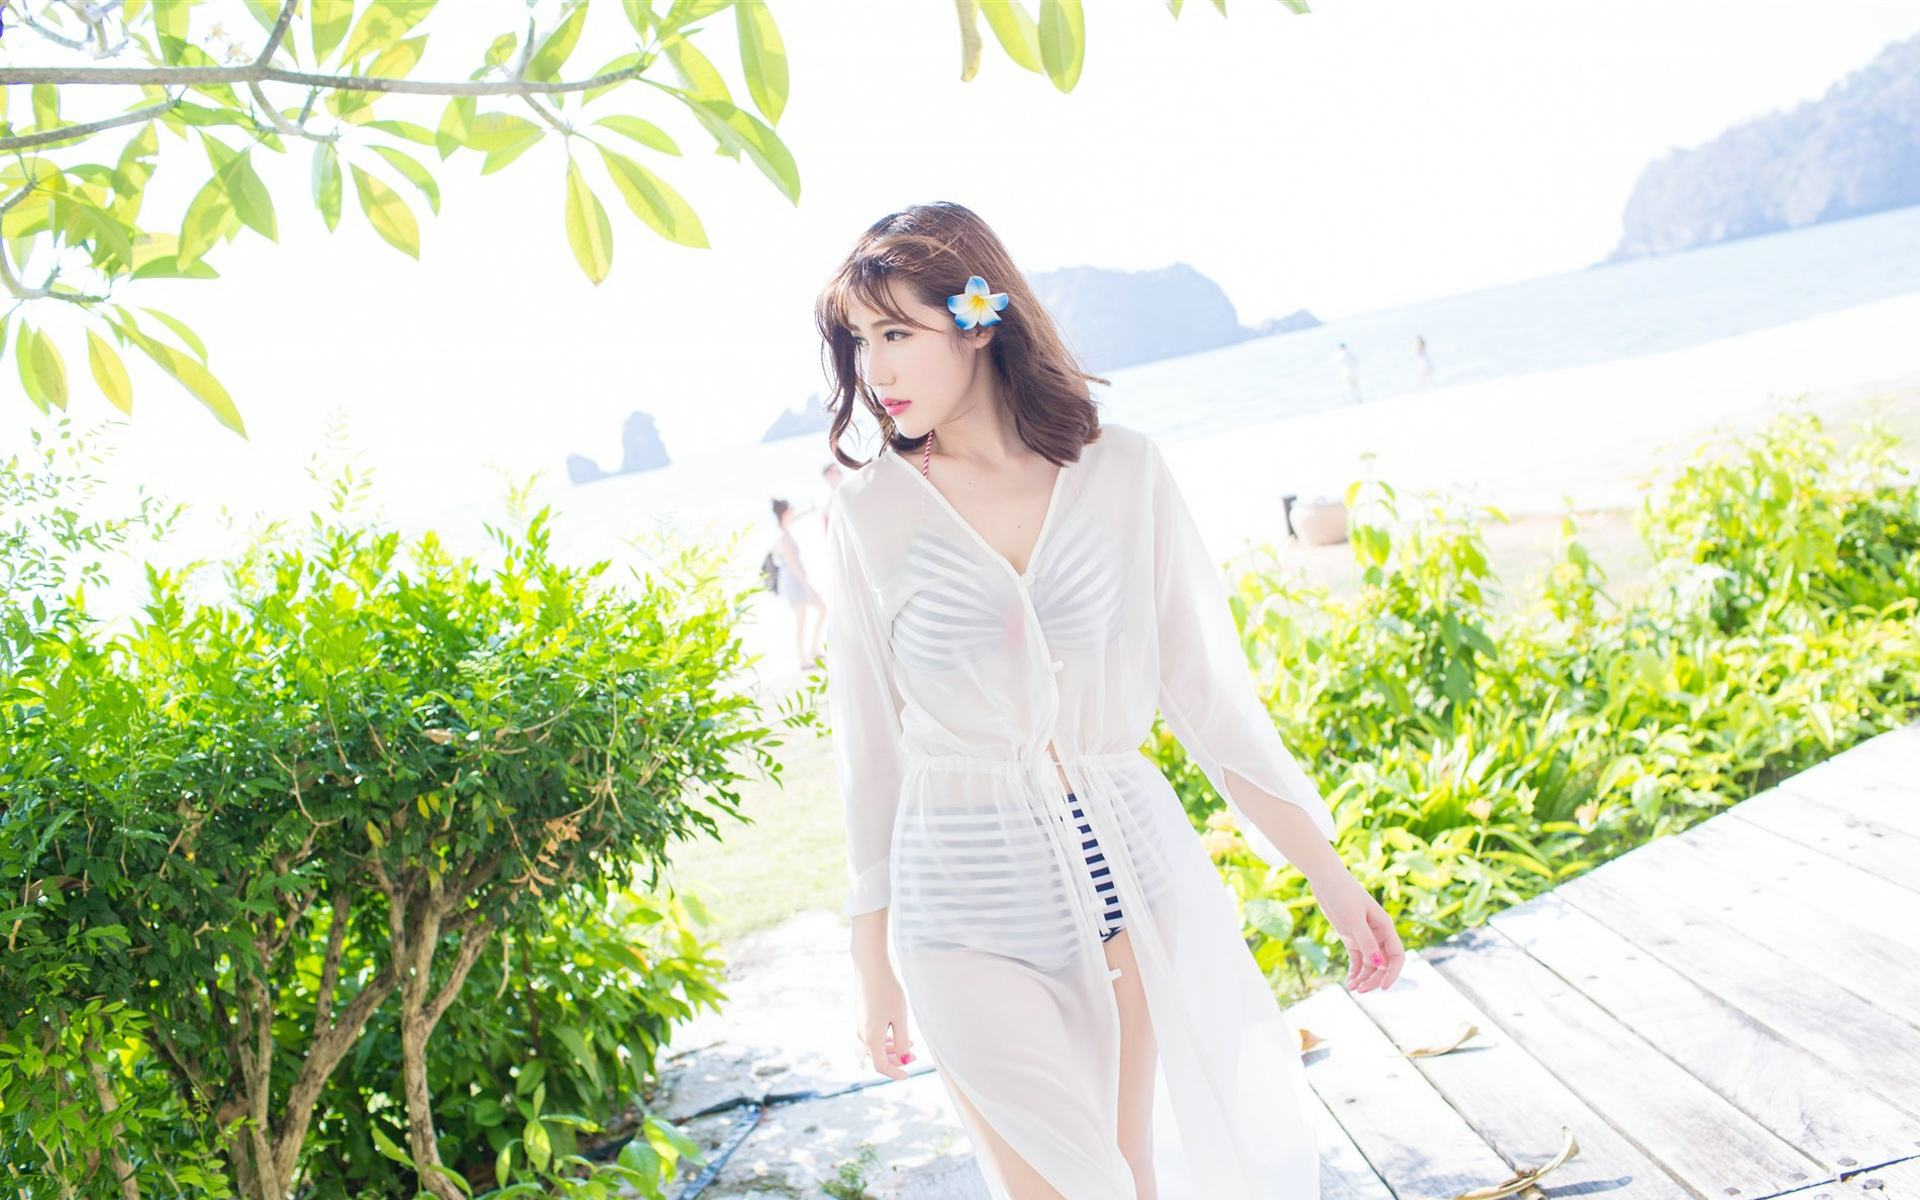person: (705, 170, 1351, 1144)
